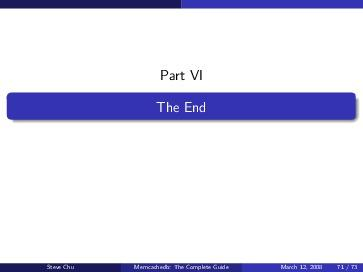title: (150, 61, 218, 119)
